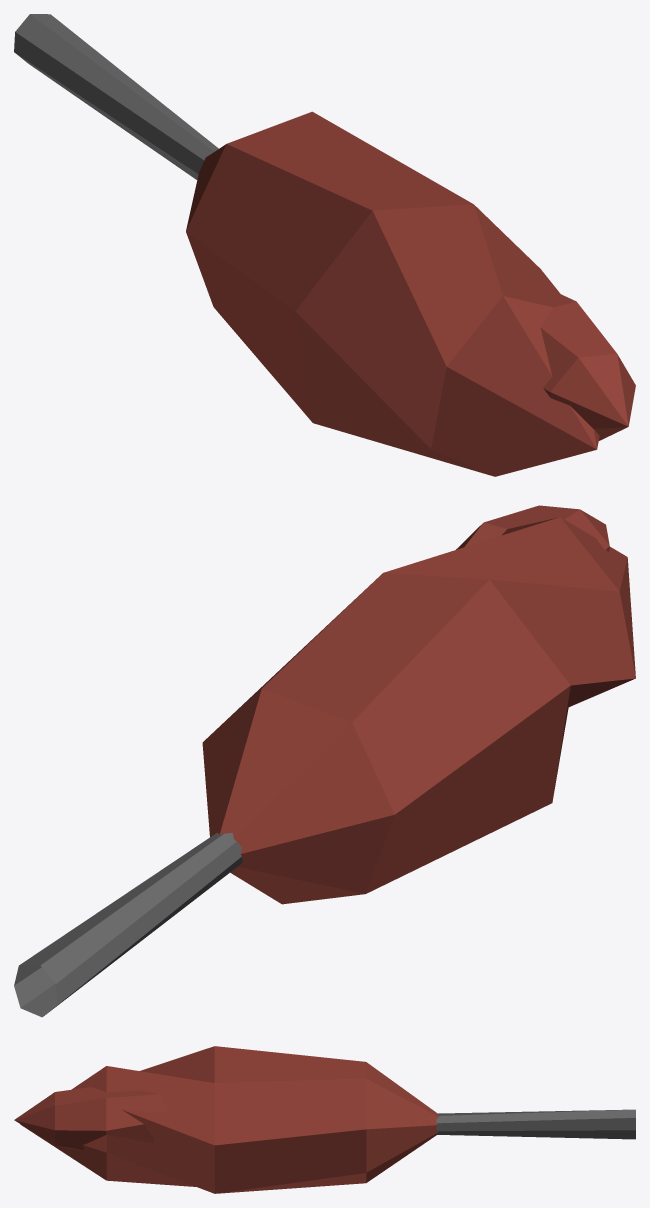
File: dying_0.glb
3 views of the same model, one above another, from view 1: azimuth 30°, elevation 25°; view 2: azimuth 150°, elevation 25°; view 3: azimuth 270°, elevation 25° (orthographic). The views are drawn at different scales.
Parts seen in each view (by area): view 1: tree_01_dying_0; view 2: tree_01_dying_0; view 3: tree_01_dying_0.
Boxes of the visible parts, x1,y1,x2,y2 form: tree_01_dying_0: (14, 14, 635, 476); tree_01_dying_0: (14, 505, 635, 1017); tree_01_dying_0: (14, 1046, 635, 1193).
Size of the model in its own units: 7.97 by 7.47 by 31.97.
